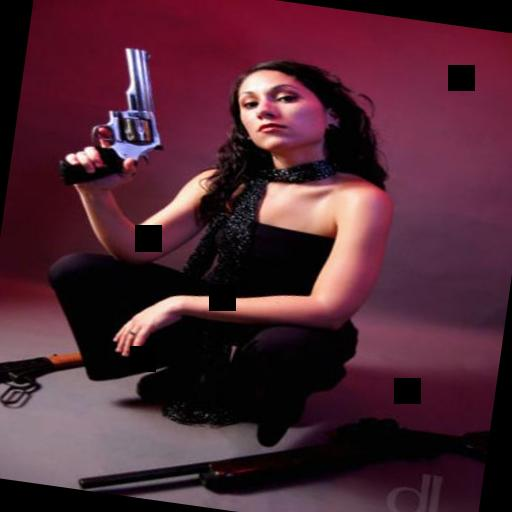Handgun: (50, 36, 178, 195)
